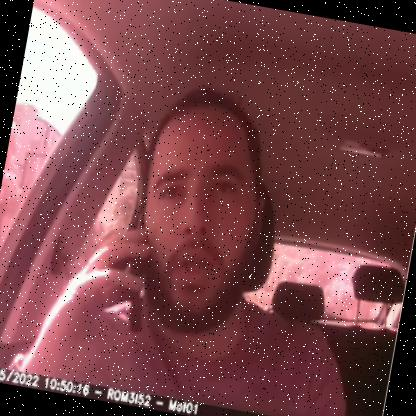phone: (105, 200, 173, 349)
